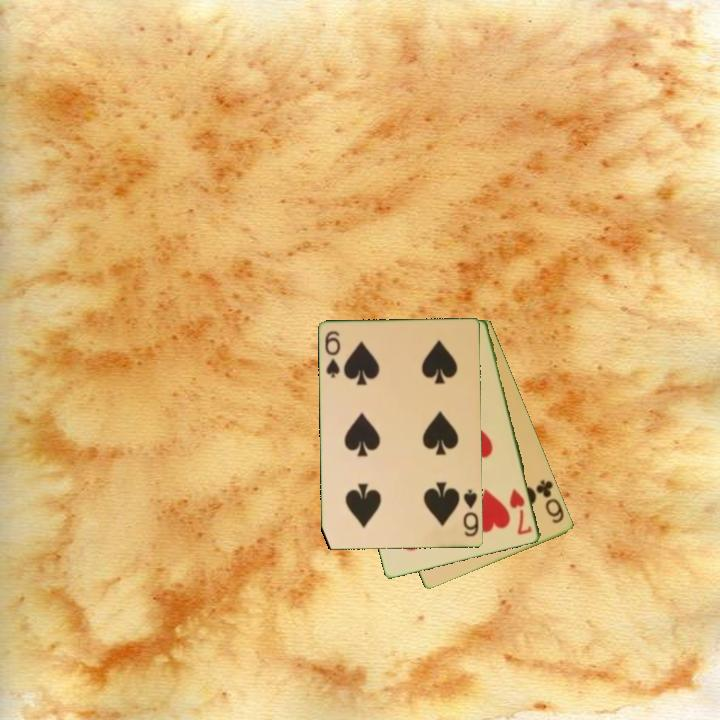6c: (533, 476, 567, 527)
6s: (460, 487, 482, 539), (322, 327, 343, 381)
7h: (506, 485, 535, 538)
